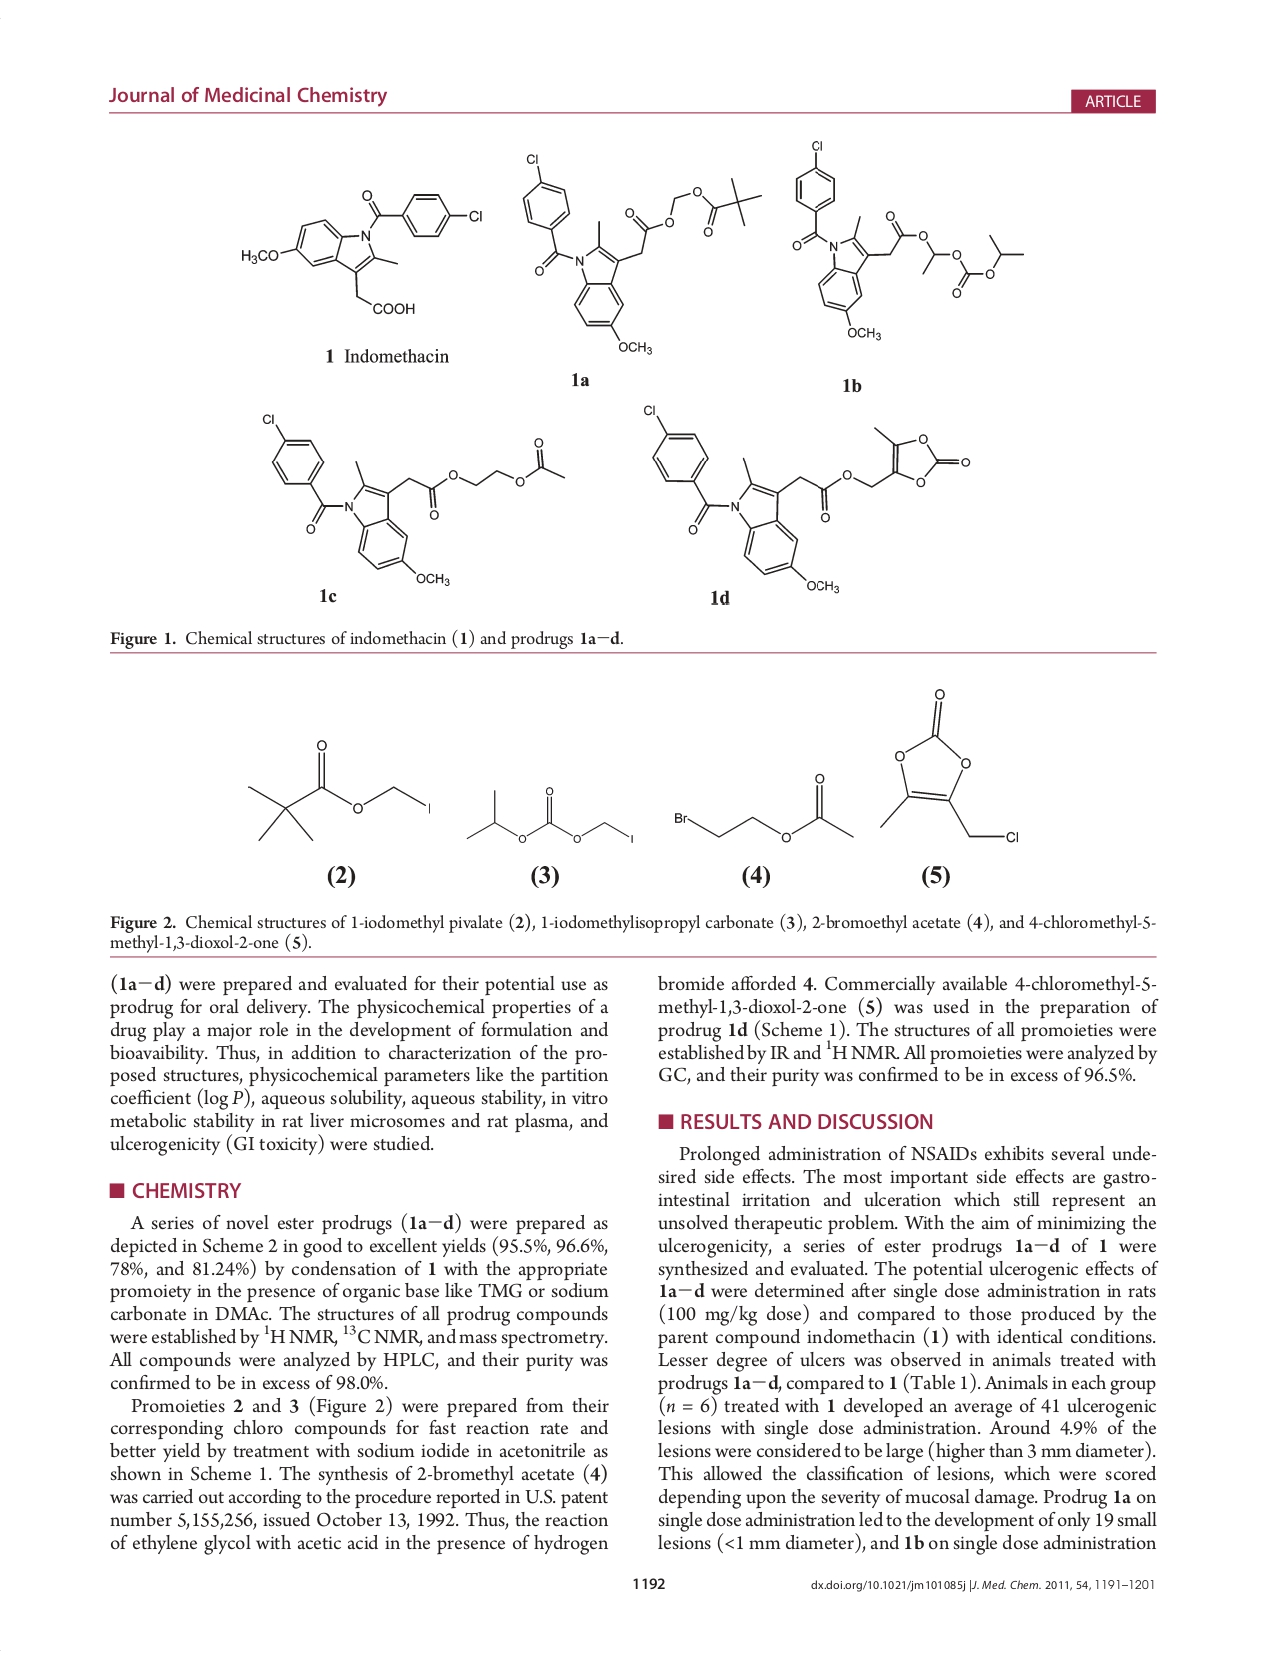exist_molecular: (638, 400, 973, 594), (257, 410, 567, 586), (515, 150, 765, 359), (787, 136, 1025, 340), (238, 188, 485, 322), (875, 684, 1023, 844), (245, 739, 436, 844), (669, 773, 856, 848), (463, 786, 636, 851)
